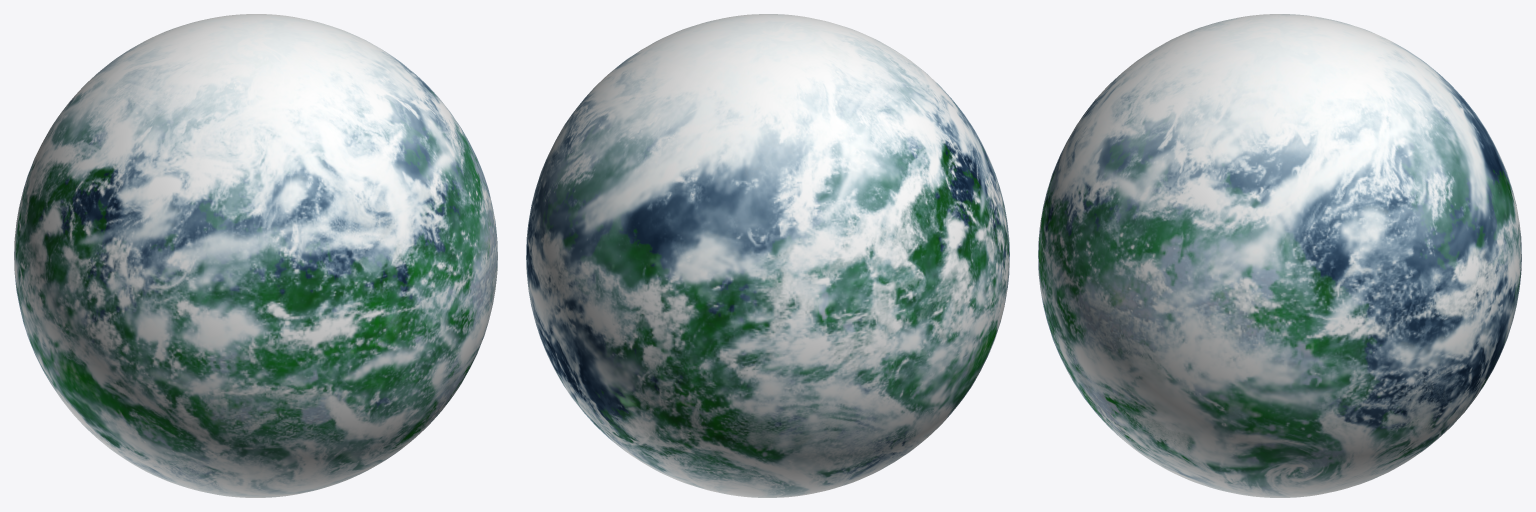
3 views of the same model, side by side, from view 1: azimuth 30°, elevation 25°; view 2: azimuth 150°, elevation 25°; view 3: azimuth 270°, elevation 25° (orthographic).
Parts seen in each view (by area): view 1: Nubes, Esfera; view 2: Nubes, Esfera; view 3: Nubes, Esfera.
Boxes of the visible parts, x1,y1,x2,y2 form: Nubes: (14,14,497,497); Esfera: (16,79,496,476); Nubes: (526,14,1009,497); Esfera: (527,98,1008,484); Nubes: (1038,14,1521,497); Esfera: (1038,87,1520,486).
Size of the model in its own units: 2006 by 2006 by 2006.
Materials: 2 (2 with a texture image).
